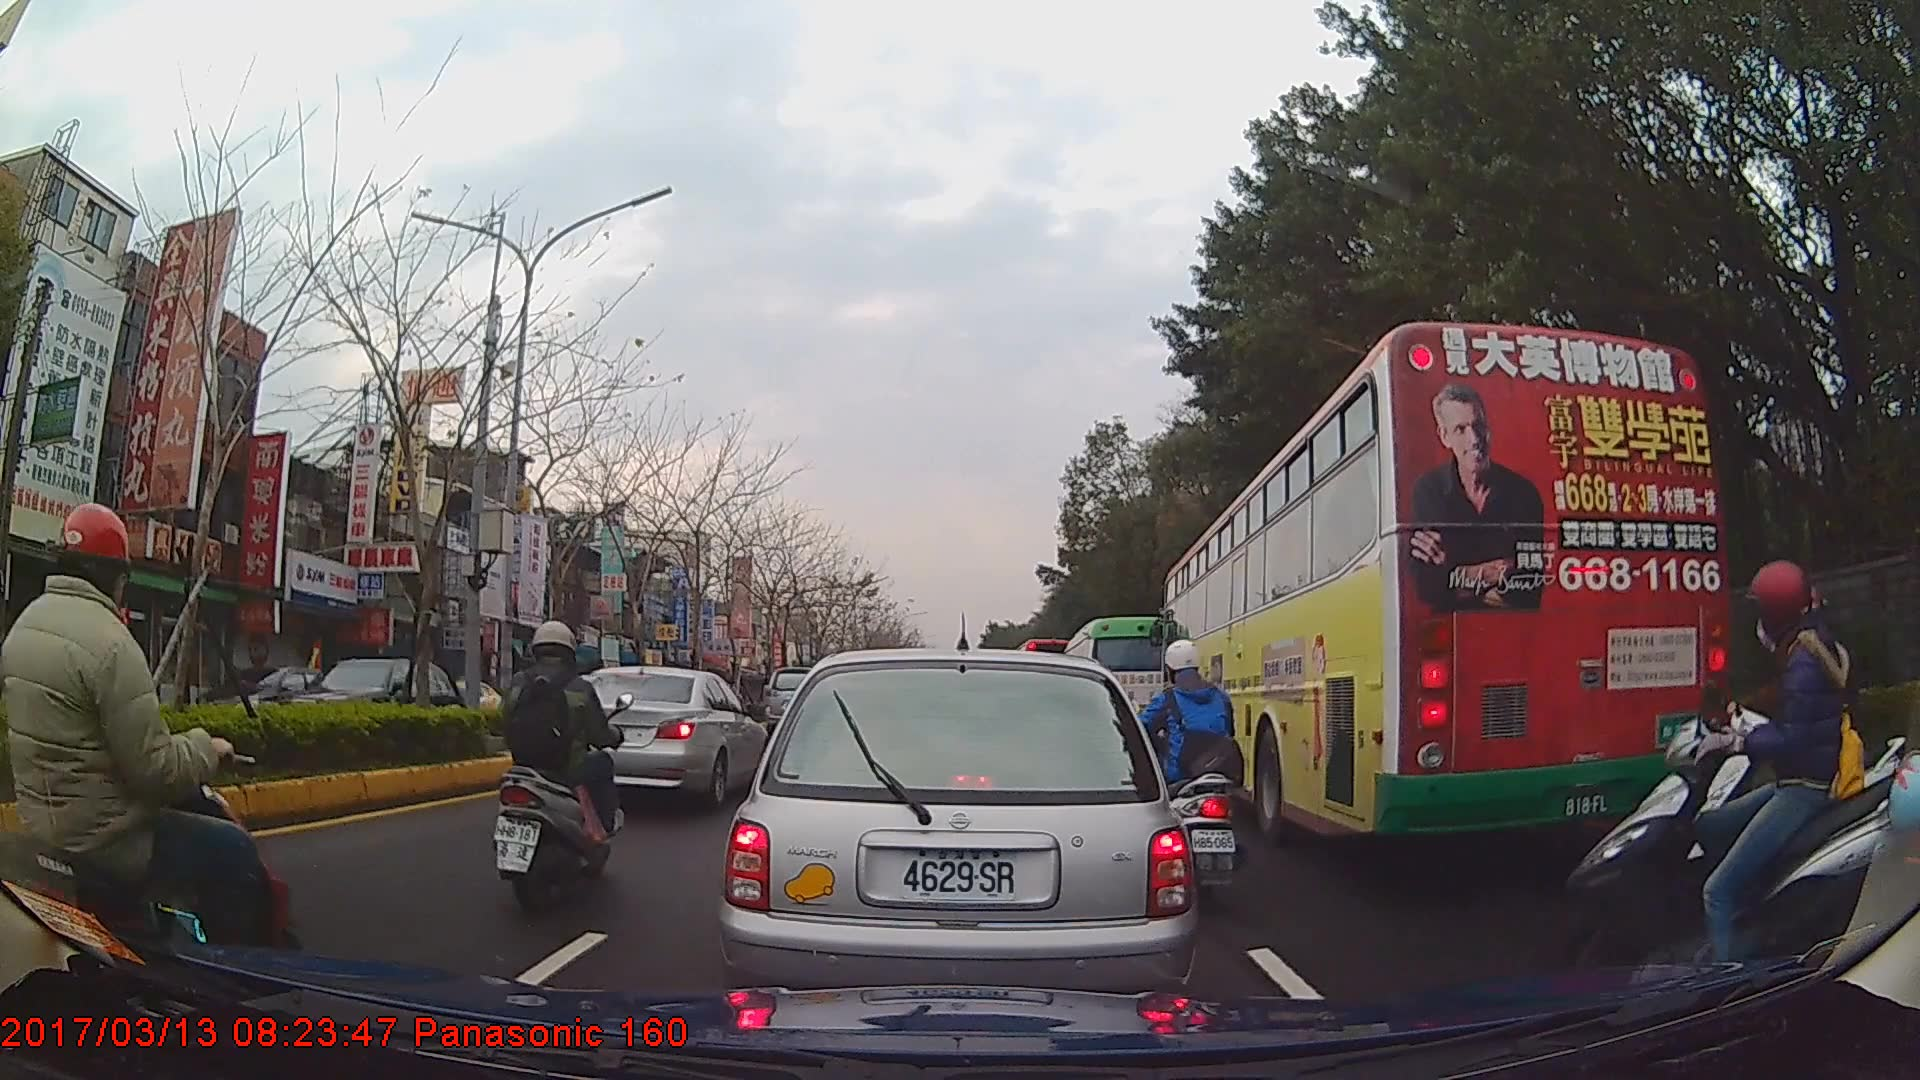rider: (1551, 567, 1920, 1002), (1, 505, 310, 990), (487, 621, 627, 910), (1135, 636, 1246, 907)
vehicle: (1160, 319, 1727, 850), (716, 647, 1195, 1029), (547, 661, 767, 809), (261, 654, 480, 750), (1058, 616, 1187, 763), (173, 657, 387, 735)
